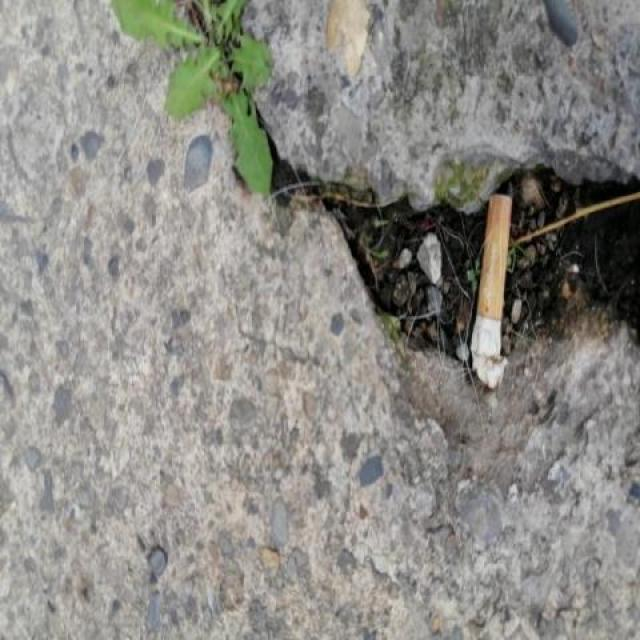non-organic waste: (467, 191, 513, 394)
